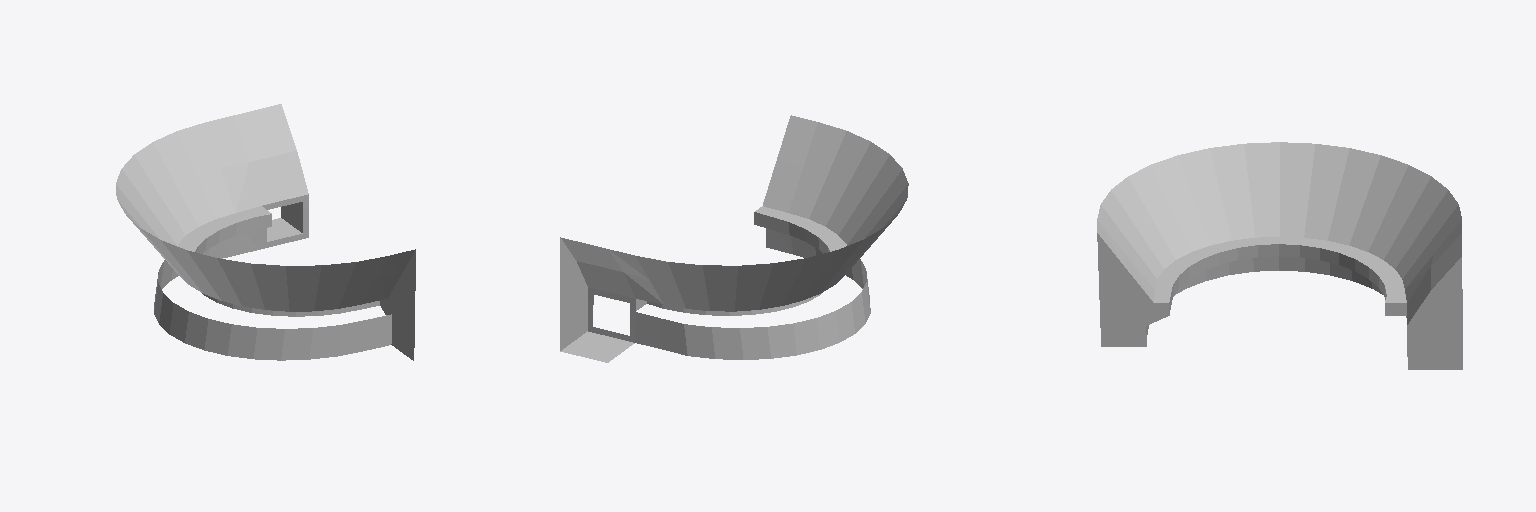
File: panel.obj
3 views of the same model, side by side, from view 1: azimuth 30°, elevation 25°; view 2: azimuth 150°, elevation 25°; view 3: azimuth 270°, elevation 25° (orthographic).
Visible parts, largest first — view 1: Cube.003; view 2: Cube.003; view 3: Cube.003.
Part boxes in pixels (x1,y1,x2,y2): Cube.003: (116, 104, 415, 360); Cube.003: (560, 115, 908, 362); Cube.003: (1097, 142, 1462, 369).
Bounding box in the file's own units: 5.81 × 2.72 × 7.9.